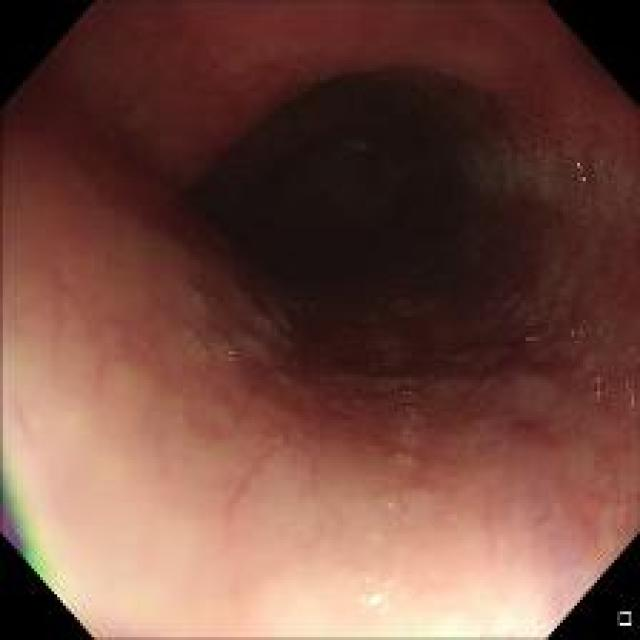bubbles: (444, 130, 571, 198), (562, 152, 634, 215), (379, 361, 419, 460), (582, 358, 636, 419), (349, 565, 401, 610), (179, 311, 210, 374), (565, 321, 618, 351), (215, 325, 241, 371), (245, 318, 270, 355), (520, 322, 545, 352), (381, 488, 401, 512), (272, 431, 288, 449)
color misalignment: (0, 461, 42, 574), (395, 374, 414, 440), (591, 372, 601, 396)
contrast: (172, 51, 542, 351)
specularity: (360, 572, 394, 605), (574, 160, 588, 182)
